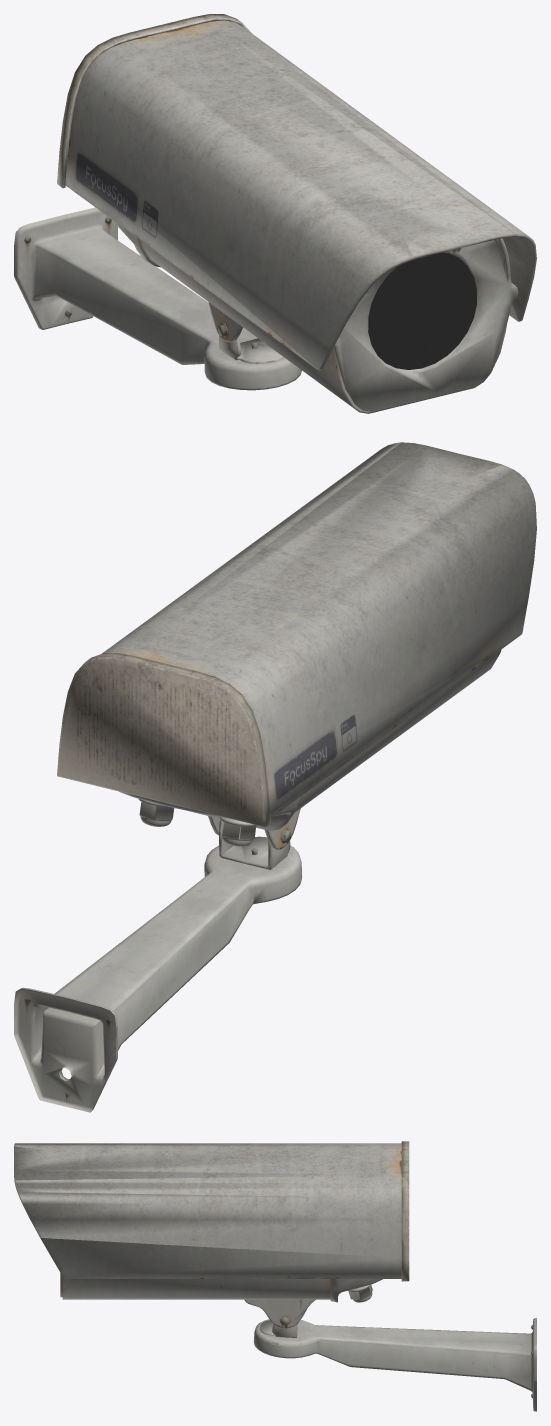
Rendered from securitycam-v2.glb.
3 renders of one model, top to bottom at view 1: azimuth 30°, elevation 25°; view 2: azimuth 150°, elevation 25°; view 3: azimuth 270°, elevation 25°, orthographic. The views are drawn at different scales.
Visible parts, largest first — view 1: security_camera_01.001; view 2: security_camera_01.001; view 3: security_camera_01.001.
Boxes of the visible parts, x1,y1,x2,y2 form: security_camera_01.001: (14, 14, 536, 413); security_camera_01.001: (14, 442, 536, 1112); security_camera_01.001: (14, 1141, 536, 1411).
Size of the model in its own units: 0.8723 by 1.47 by 2.85.
1 material, 1 textured.
